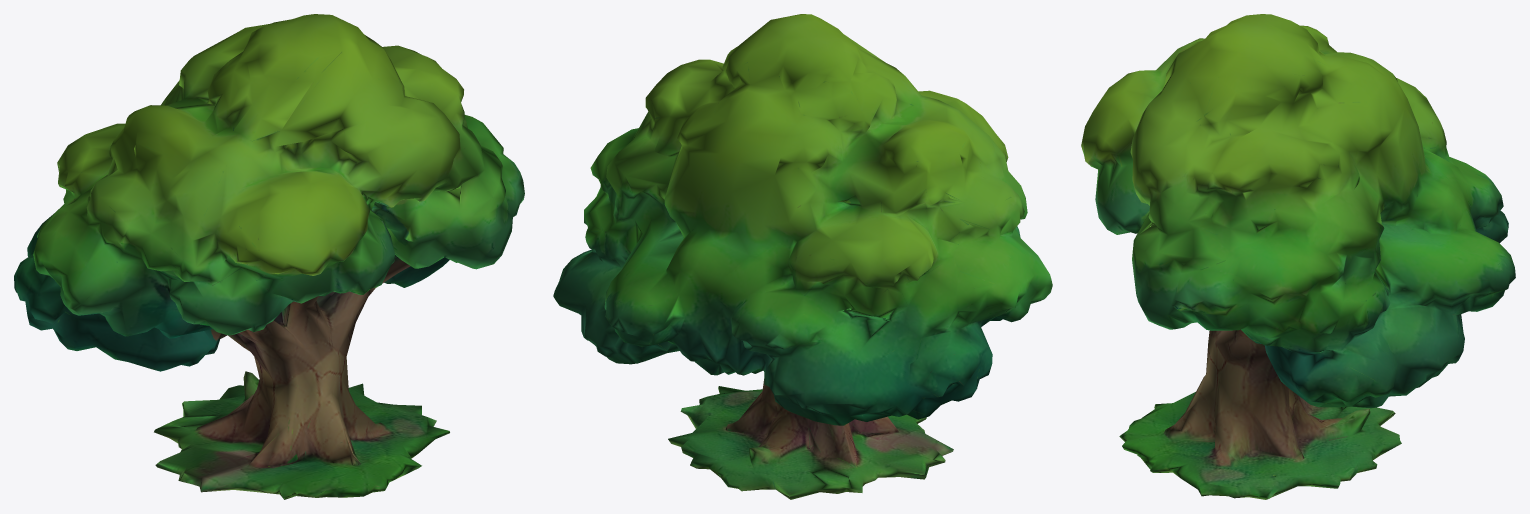
Rendered from treeA04.fbx.
The picture shows the model from 3 angles, left to right: view 1: azimuth 30°, elevation 25°; view 2: azimuth 150°, elevation 25°; view 3: azimuth 270°, elevation 25°; orthographic projection. The views are drawn at different scales.
Parts seen in each view (by area): view 1: treeA04; view 2: treeA04; view 3: treeA04.
Part boxes in pixels (x1=…): treeA04: x1=14, y1=14, x2=524, y2=499; treeA04: x1=553, y1=14, x2=1052, y2=499; treeA04: x1=1081, y1=14, x2=1515, y2=499.
Size of the model in its own units: 141 by 129 by 120.
1 material, 1 textured.
